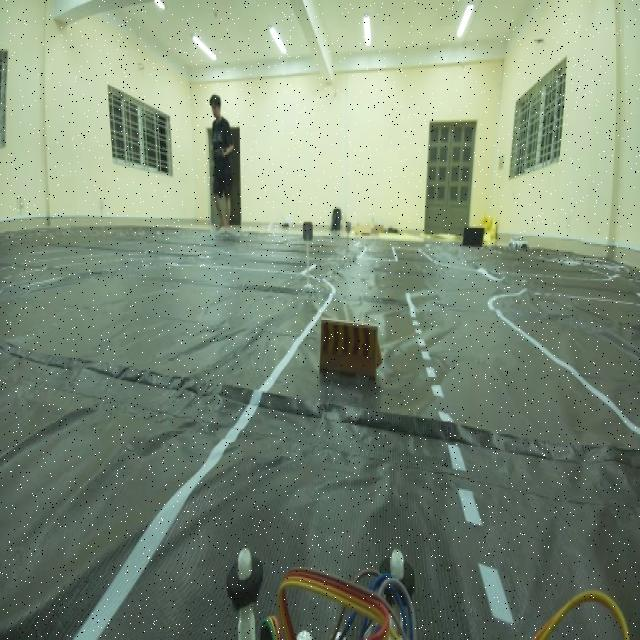roadblock: (318, 301, 388, 399)
